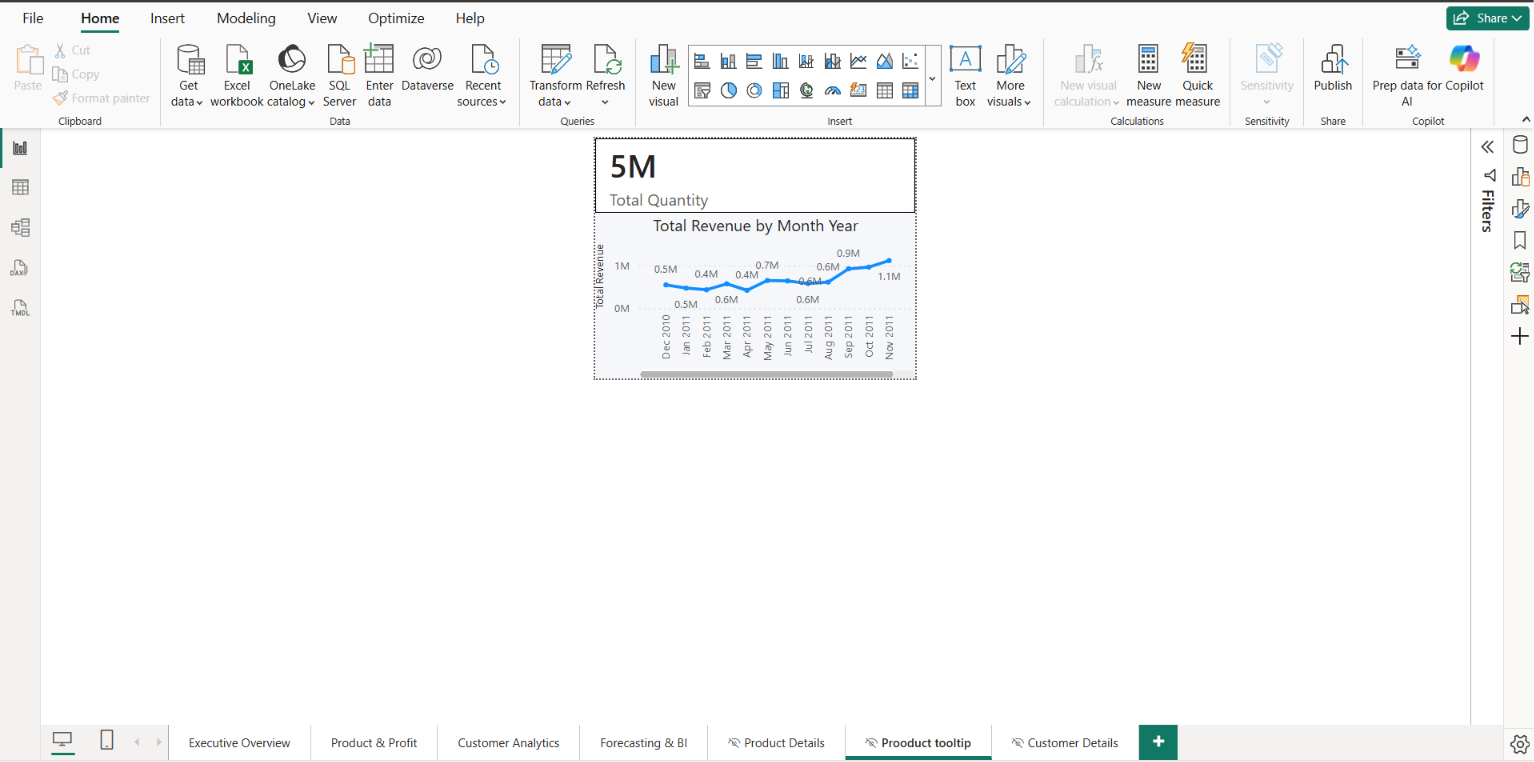

The dashboard page shown, as its layout file describes it:
{"tool":"powerbi","page":{"name":"Prooduct tooltip","canvas":[320,240],"ordinal":5},"visuals":[{"type":"lineChart","fields":{"Category":["DateTable.Month Year"],"Y":["output.Total Revenue"]},"box":[0,75,320,165],"z":0},{"type":"cardVisual","fields":{"Data":["output.Total Quantity"]},"box":[0,0,320,75],"z":1000}]}

Visuals, with their boxes on the page's 320x240 design canvas (x1, y1, x2, y2). These are canvas units, not pixel positions in the 1534x762 screenshot, which may show the page scaled, cropped or inside an application window:
lineChart - DateTable.Month Year x output.Total Revenue: bbox(0, 75, 320, 240)
cardVisual - output.Total Quantity: bbox(0, 0, 320, 75)
